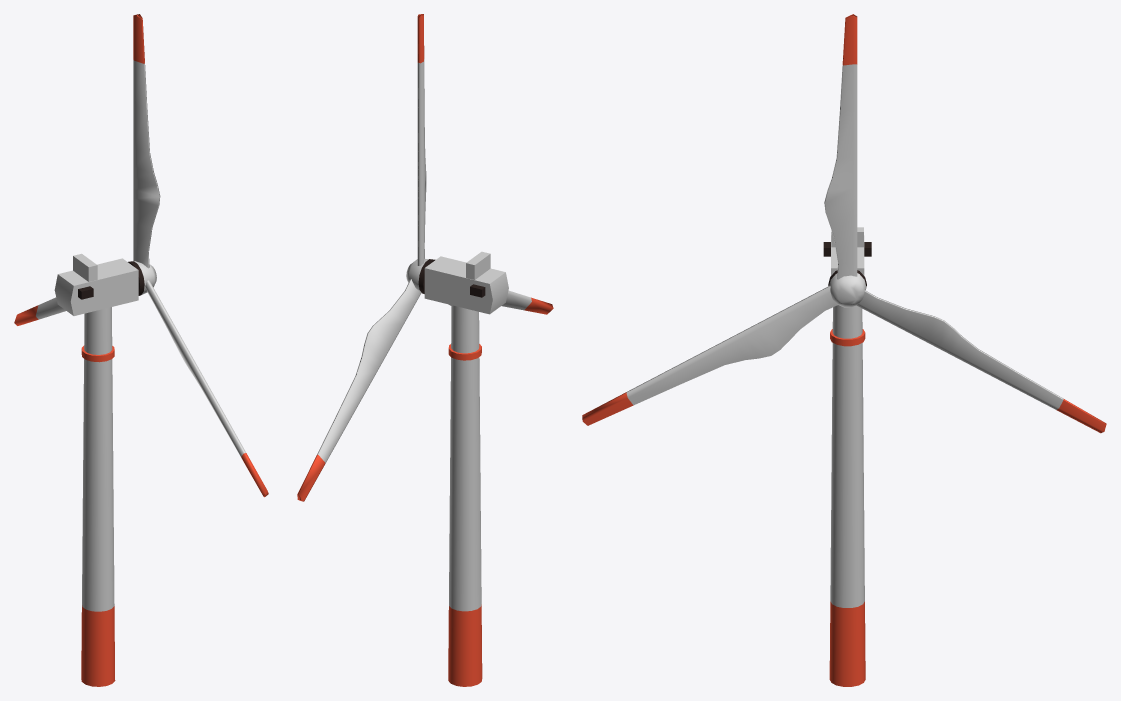
Rendered from 2026-1-10-WindTurbine-v004.fbx.
3 renders of one model, left to right at view 1: azimuth 30°, elevation 25°; view 2: azimuth 150°, elevation 25°; view 3: azimuth 270°, elevation 25°, orthographic. The views are drawn at different scales.
Visible parts, largest first — view 1: Cube.003, TurbineBlades; view 2: Cube.003, TurbineBlades; view 3: TurbineBlades, Cube.003.
Boxes of the visible parts, left/top/right/bottom form: Cube.003: left=54, top=253, right=156, bottom=686; TurbineBlades: left=14, top=14, right=268, bottom=497; Cube.003: left=406, top=251, right=508, bottom=686; TurbineBlades: left=297, top=14, right=553, bottom=501; TurbineBlades: left=582, top=14, right=1106, bottom=433; Cube.003: left=823, top=227, right=871, bottom=686.
Bounding box in the file's own units: 46.91 × 327 × 227.
